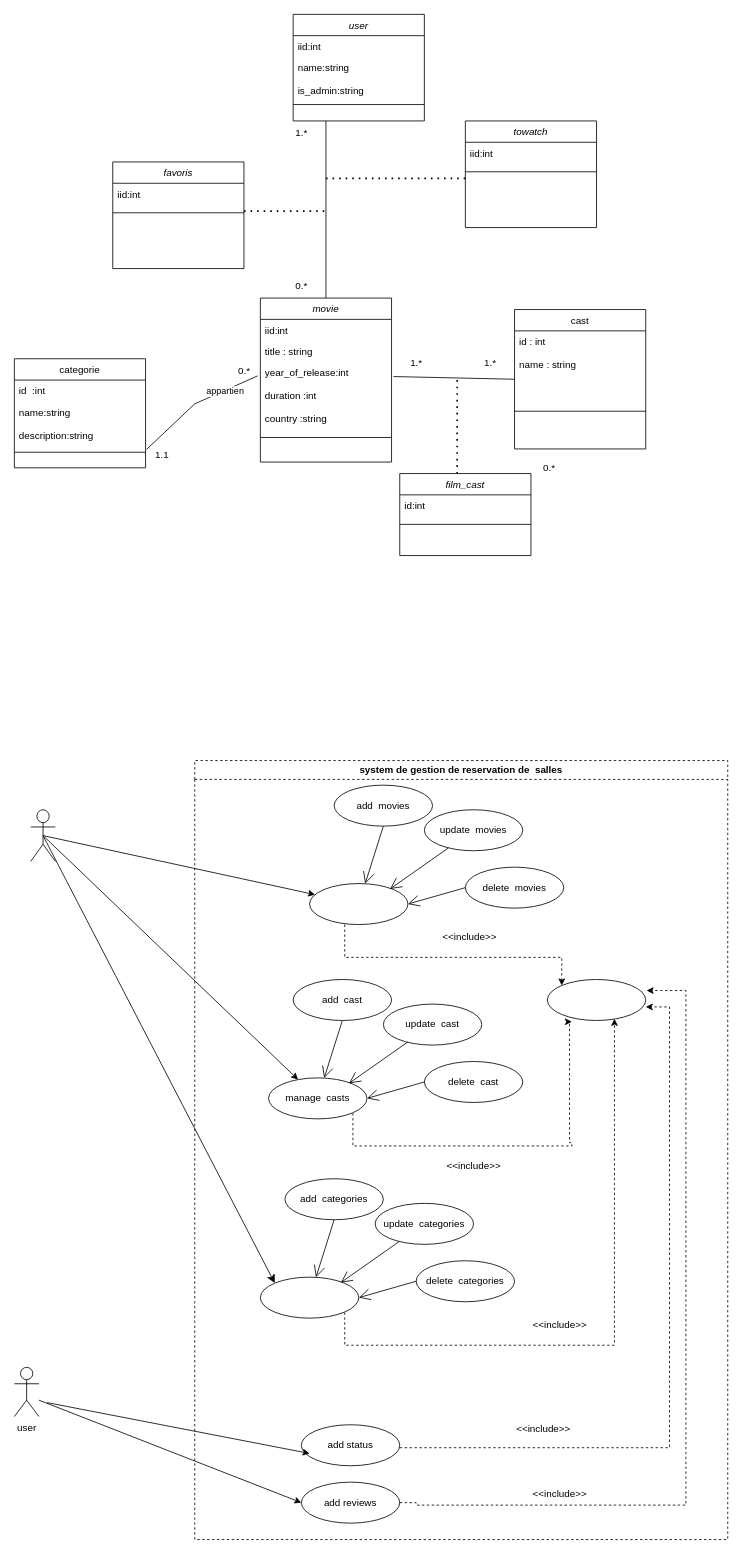
The diagram is 742 pixels wide and 1554 high, and some of its shapes have lost their labels. The shapes that lost their labels are listed below. From the top down, each one's centre as x and y in pixels, then its label:
(x=42, y=835): admin
(x=358, y=904): manage movies
(x=596, y=999): authentification
(x=309, y=1297): manage categories
